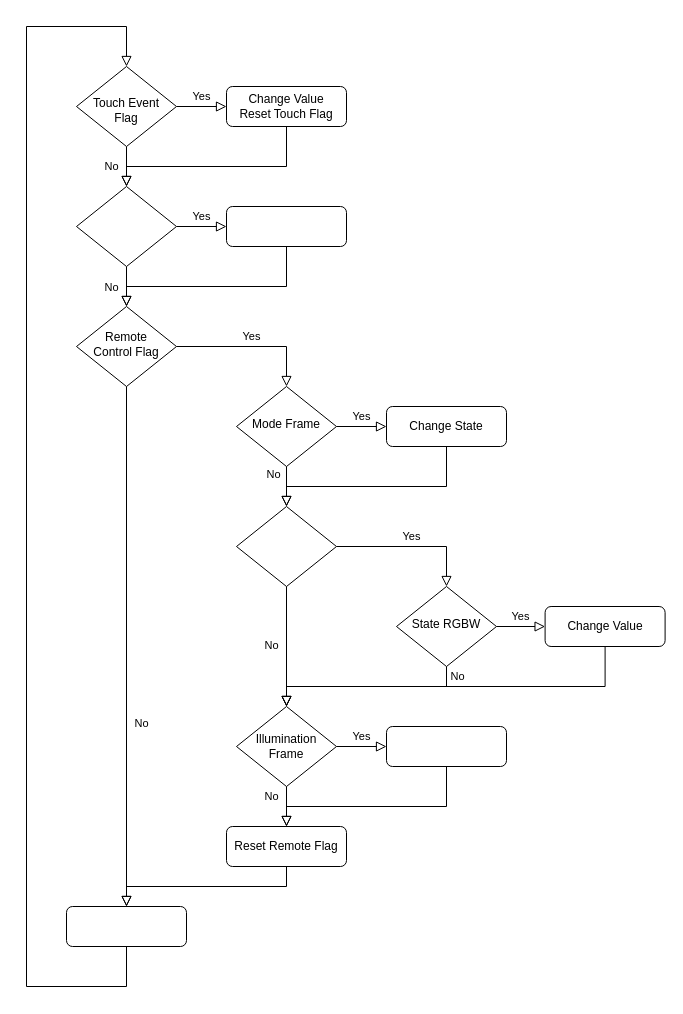
Some shapes in this 683 by 1014 pixel diagram are drawn without their labels. The centre of each missing label's shape, as x and y in pixels:
"Button Event Flag" belongs at point (126, 226).
"Change Settings" belongs at point (446, 746).
"Change State Reset Button Flag" belongs at point (286, 226).
"Send Temperature" belongs at point (126, 926).
"Value Frame" belongs at point (286, 546).
